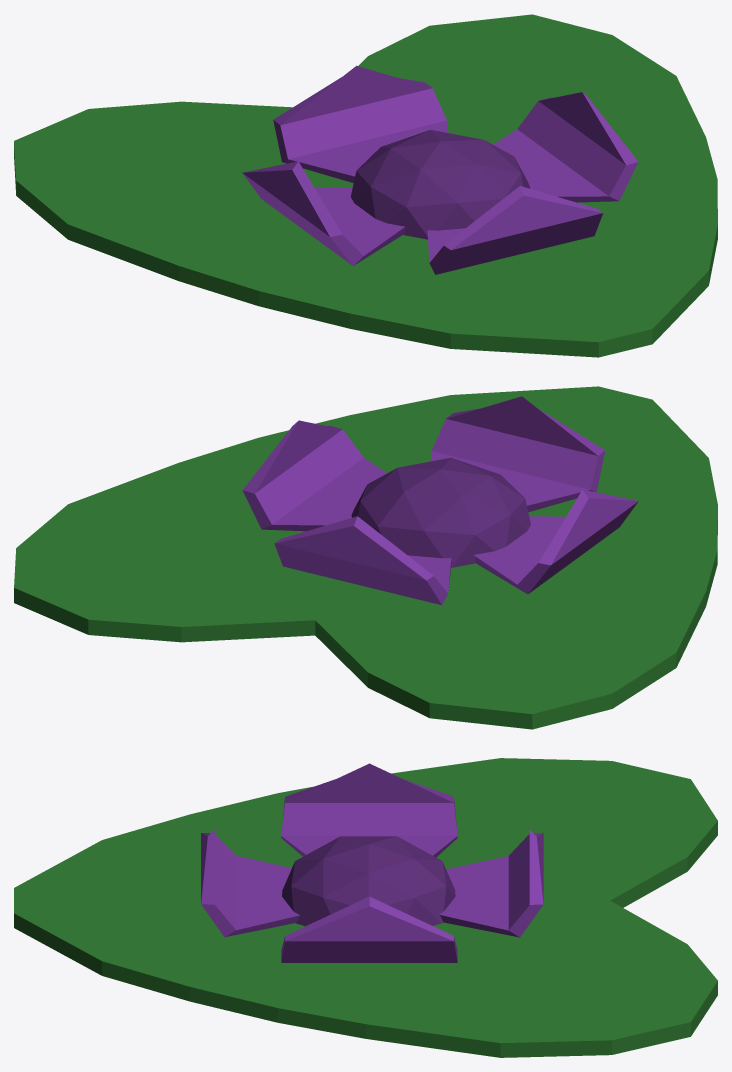
File: Flower_6_Purple.fbx
3 views of the same model, one above another, from view 1: azimuth 30°, elevation 25°; view 2: azimuth 150°, elevation 25°; view 3: azimuth 270°, elevation 25° (orthographic). The views are drawn at different scales.
Parts seen in each view (by area): view 1: Flower_6_Purple_Part_1, Flower_6_Purple_Part_2, Flower_6_Purple_Part_3; view 2: Flower_6_Purple_Part_1, Flower_6_Purple_Part_2, Flower_6_Purple_Part_3; view 3: Flower_6_Purple_Part_1, Flower_6_Purple_Part_2, Flower_6_Purple_Part_3.
Part boxes in pixels (left/top/right/bottom): Flower_6_Purple_Part_1: left=14, top=14, right=717, bottom=357; Flower_6_Purple_Part_2: left=242, top=65, right=638, bottom=274; Flower_6_Purple_Part_3: left=350, top=130, right=530, bottom=239; Flower_6_Purple_Part_1: left=14, top=386, right=717, bottom=729; Flower_6_Purple_Part_2: left=242, top=396, right=638, bottom=605; Flower_6_Purple_Part_3: left=351, top=457, right=530, bottom=567; Flower_6_Purple_Part_1: left=14, top=758, right=717, bottom=1057; Flower_6_Purple_Part_2: left=201, top=763, right=543, bottom=962; Flower_6_Purple_Part_3: left=282, top=836, right=455, bottom=926.
Size of the model in its own units: 76.67 by 10.7 by 80.
